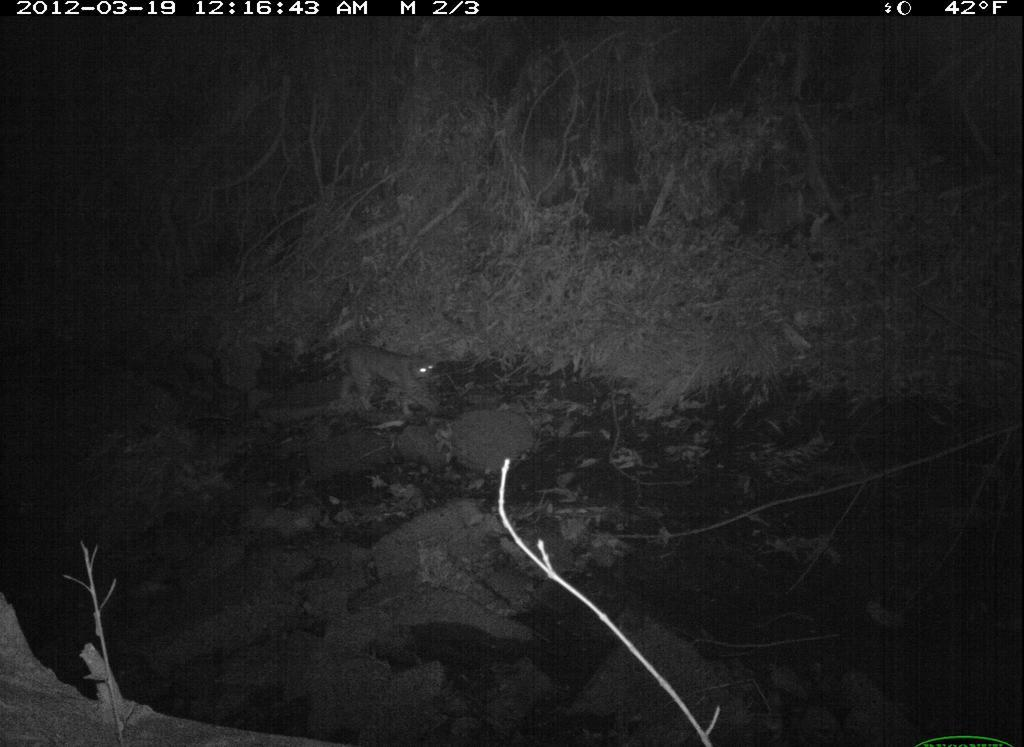bobcat: (315, 323, 463, 442)
